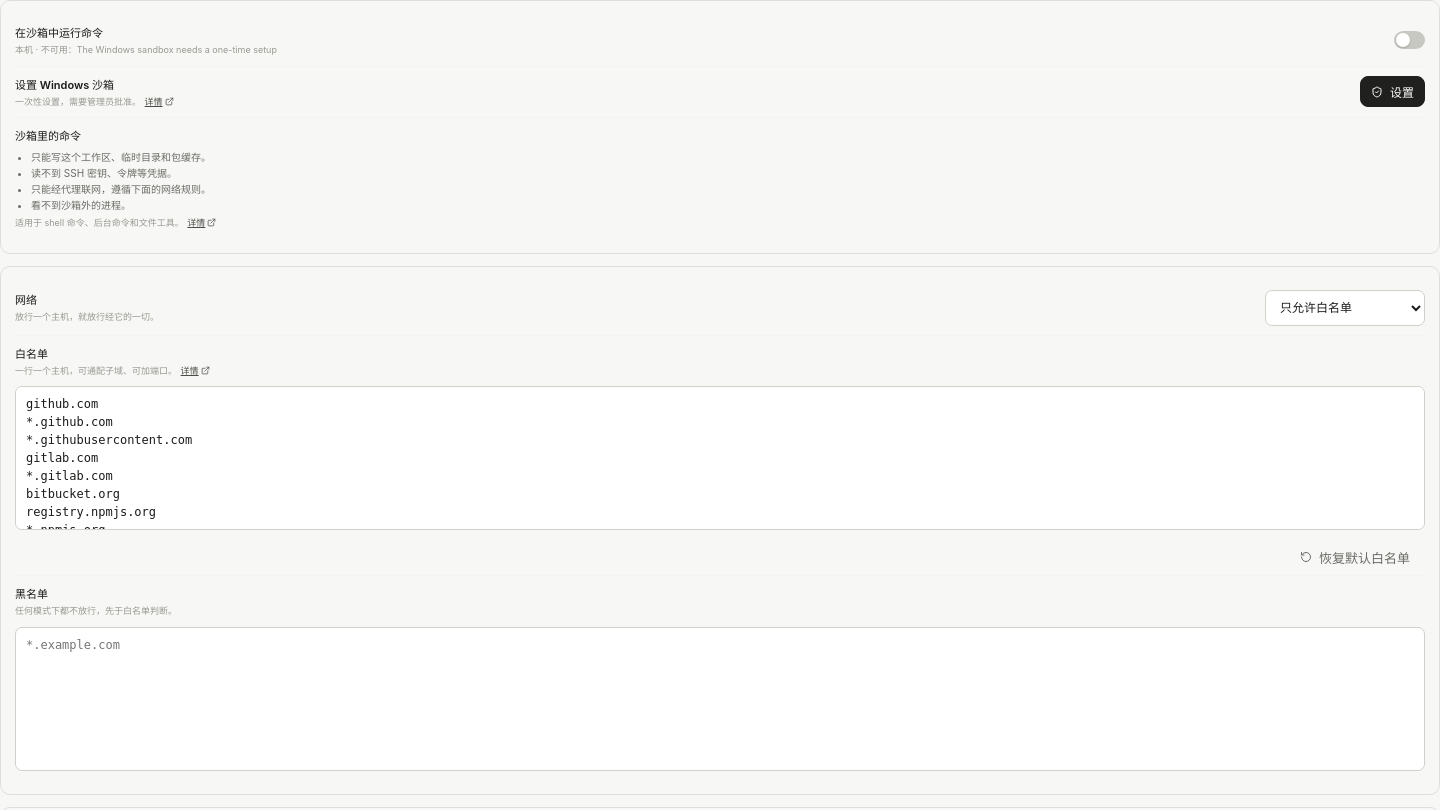
it: SandboxSettings › offers the one-time Windows setup and shows the sandbox available after it
The image size is (1440, 810).
What coordinates should you click on to do the following:
click the button "设置"
I would click on:
 (1392, 92)
Its box is x1=1360 y1=76 x2=1425 y2=107.
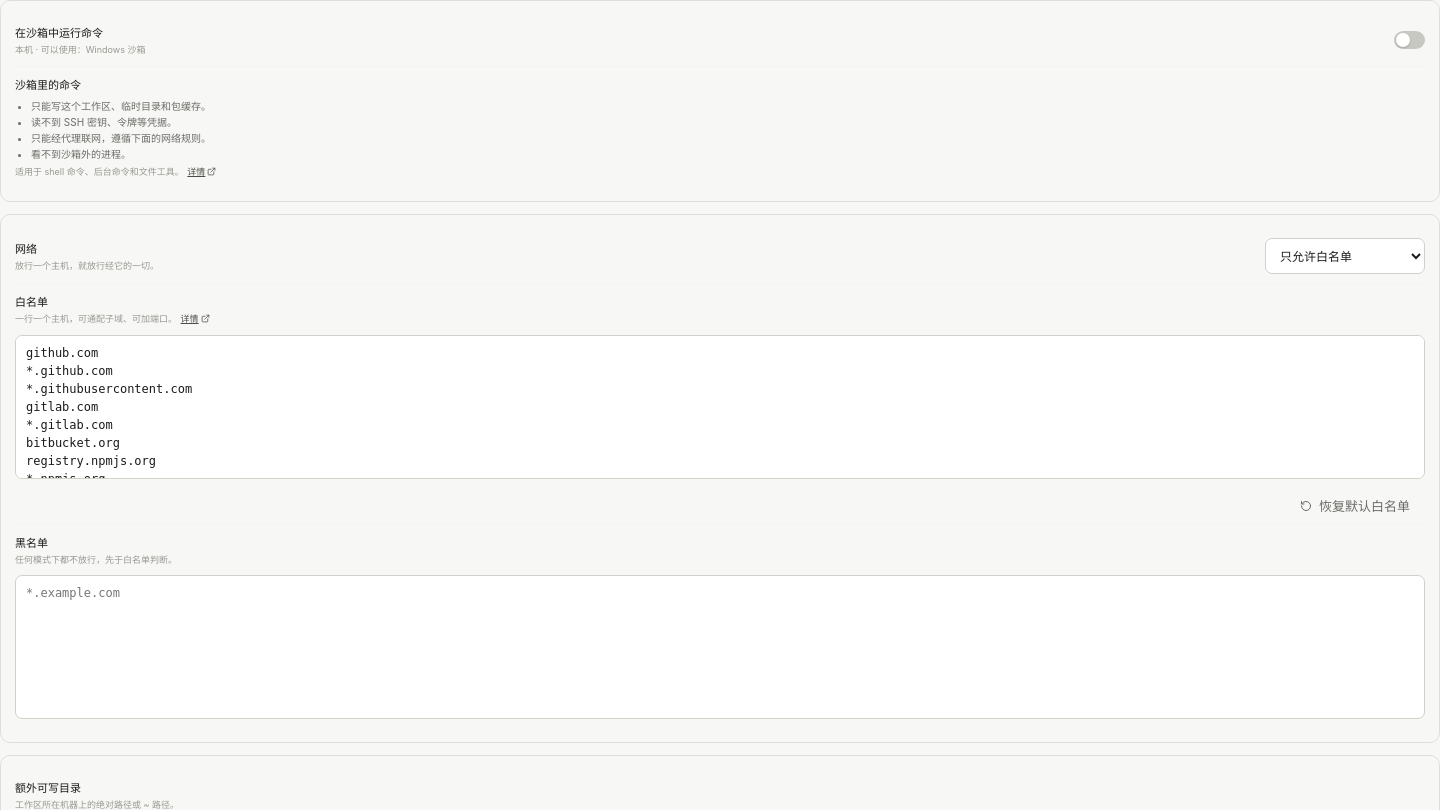
Expected: the text "本机 · 可以使用：Windows 沙箱" is shown, x1=15 y1=44 x2=145 y2=55
Expected: the text "设置 Windows 沙箱" is gone
